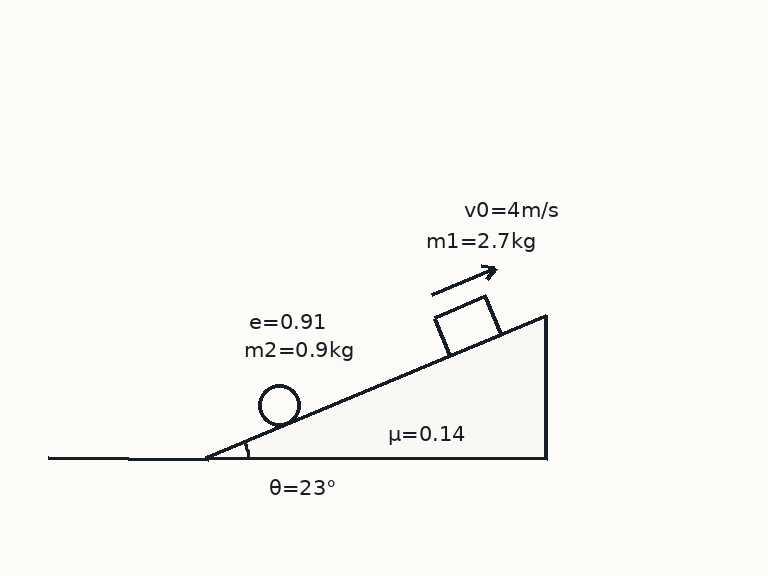ball: (256, 382, 302, 428)
block: (432, 294, 503, 357)
ramp: (206, 313, 548, 460)
